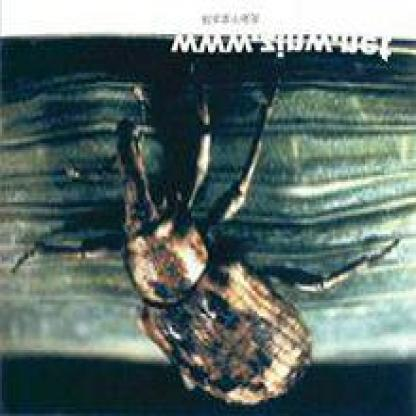rice-bug: (105, 113, 320, 405)
